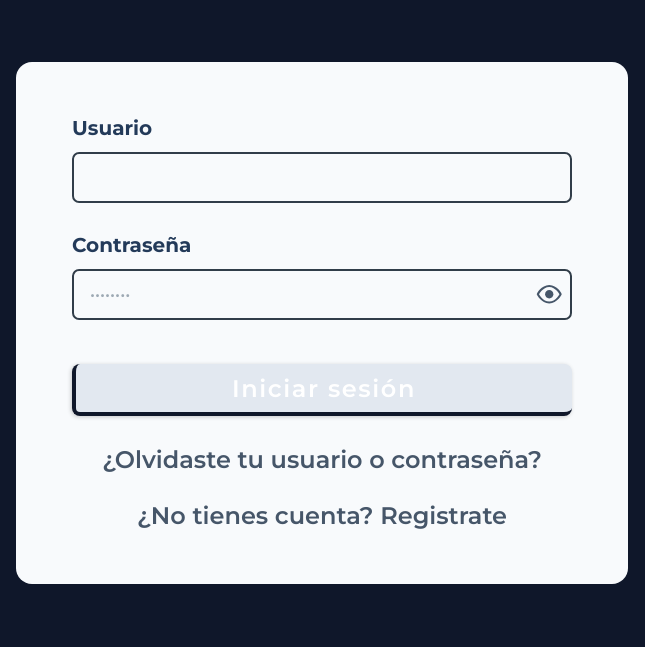
it: LoginScreen - Integration Unit Tests › should catch domain errors returned from the store execution and propagate them to the view alert sub-tree
The width and height of the screenshot is (645, 647).
Type "brute_force_user" into the field labelled "Usuario" at [322, 177], box x1=74 y1=154 x2=570 y2=201
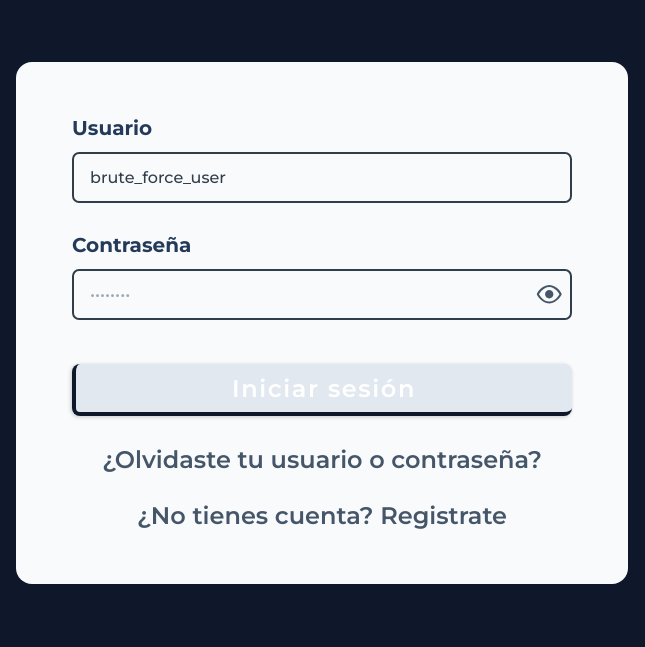
Type "wrong_password" into the password field labelled "Contraseña" at [302, 294], box x1=74 y1=271 x2=529 y2=318
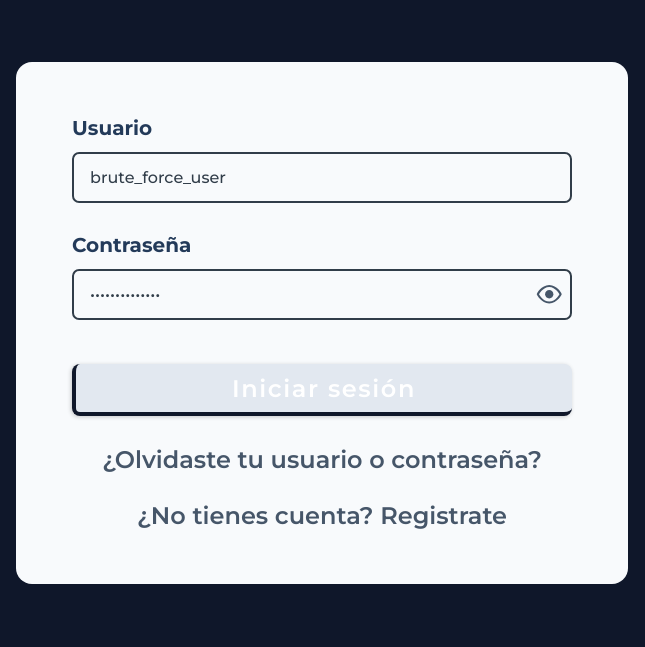
Click the button "Iniciar sesión" at [322, 390], box x1=72 y1=364 x2=572 y2=416
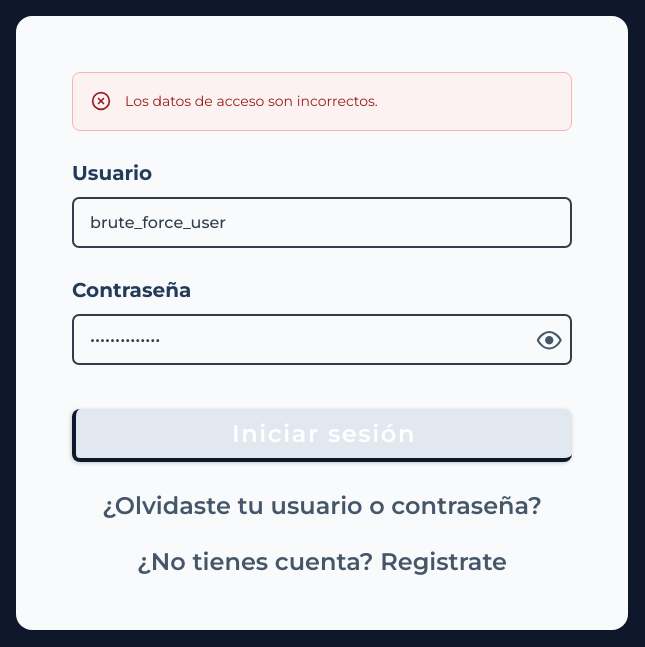
Now the text "Los datos de acceso son incorrectos." is shown, box x1=125 y1=91 x2=378 y2=112
